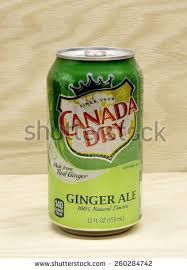Lata: (42, 41, 147, 241)
